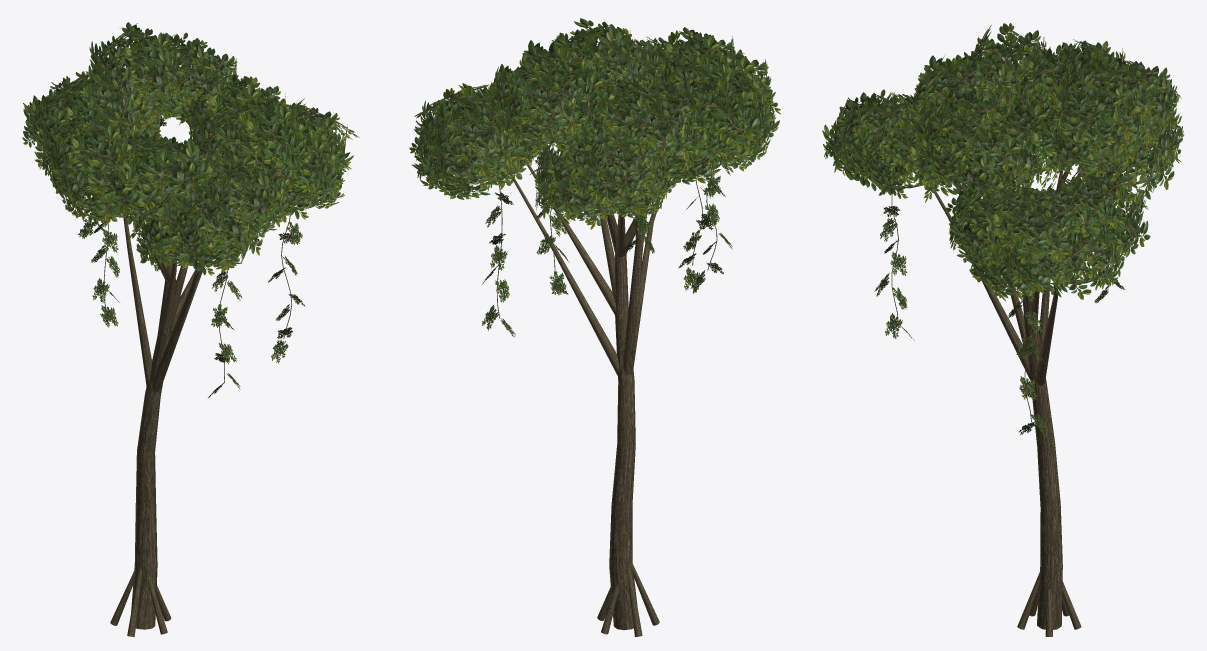
File: tree_04.glb
The picture shows the model from 3 angles, left to right: view 1: azimuth 30°, elevation 25°; view 2: azimuth 150°, elevation 25°; view 3: azimuth 270°, elevation 25°; orthographic projection. The views are drawn at different scales.
Parts seen in each view (by area): view 1: tree_04; view 2: tree_04; view 3: tree_04.
Part boxes in pixels (bbox=[...]): tree_04: bbox=[22, 22, 359, 636]; tree_04: bbox=[409, 18, 780, 636]; tree_04: bbox=[822, 23, 1184, 636].
Size of the model in its own units: 9.08 by 14.75 by 8.64.
Materials: 2 (2 with a texture image).
